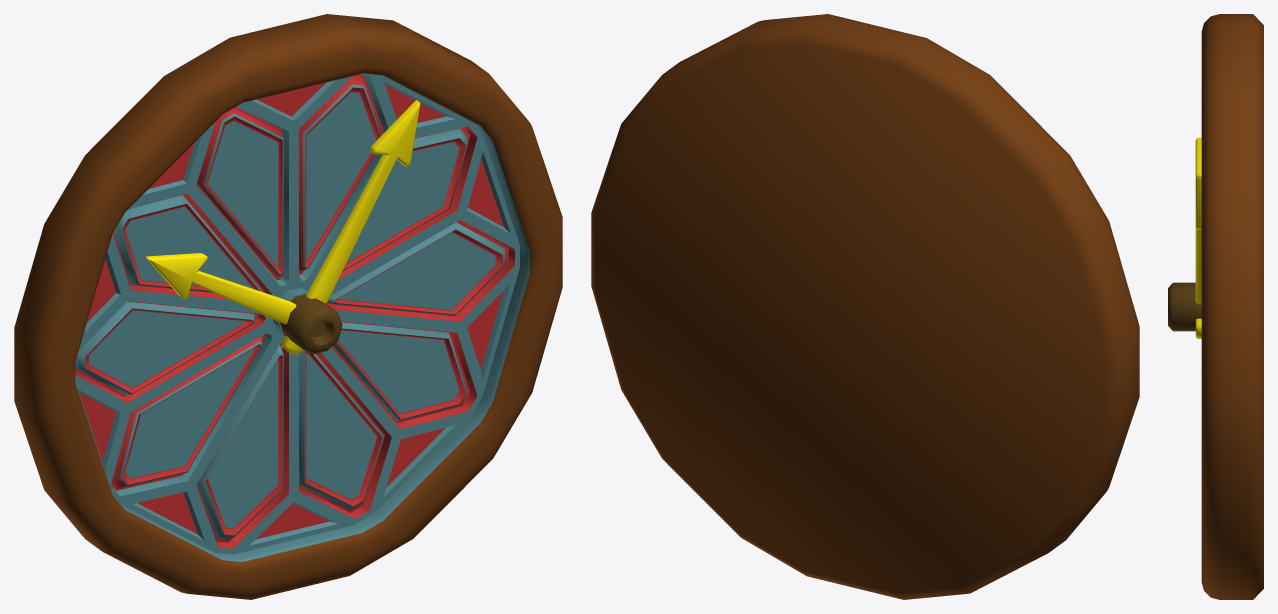
The model's file is Clock.fbx.
The picture shows the model from 3 angles, left to right: view 1: azimuth 30°, elevation 25°; view 2: azimuth 150°, elevation 25°; view 3: azimuth 270°, elevation 25°; orthographic projection. The views are drawn at different scales.
Parts seen in each view (by area): view 1: Clock; view 2: Clock; view 3: Clock.
Boxes of the visible parts, x1,y1,x2,y2 form: Clock: [14, 14, 562, 599]; Clock: [591, 14, 1139, 599]; Clock: [1168, 14, 1263, 599].
Bounding box in the file's own units: 3.59 × 3.56 × 0.5911.
